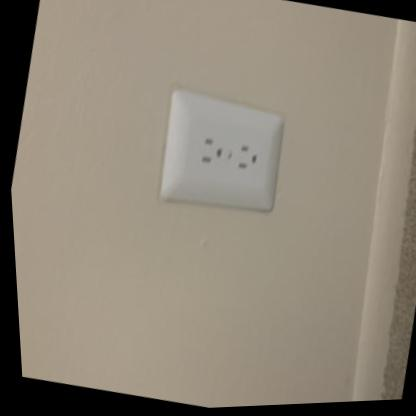OUTLET: (150, 89, 292, 222)
